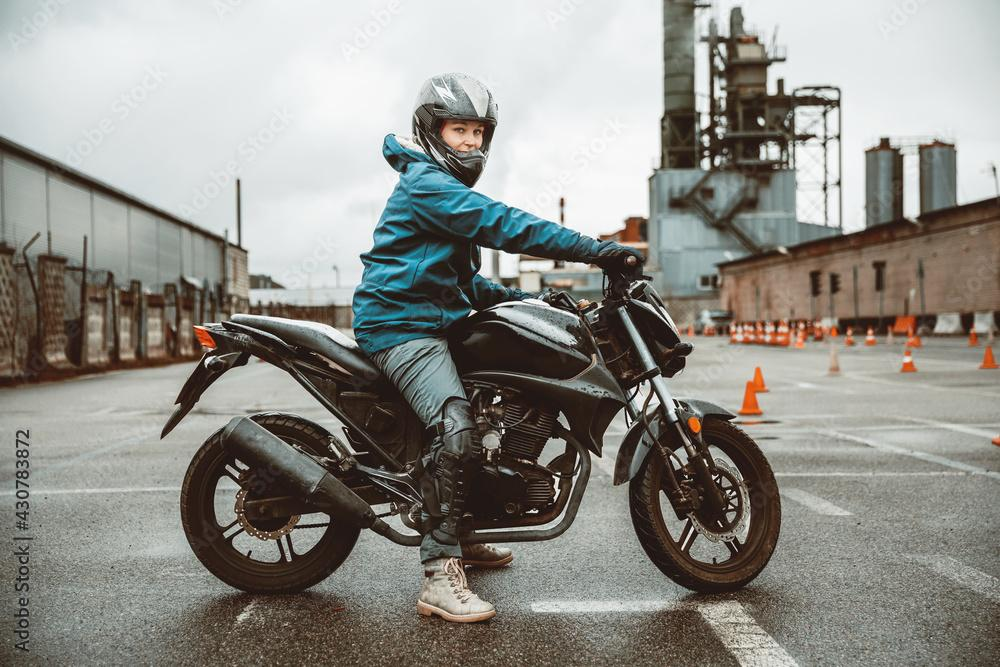helmet: (411, 71, 499, 189)
